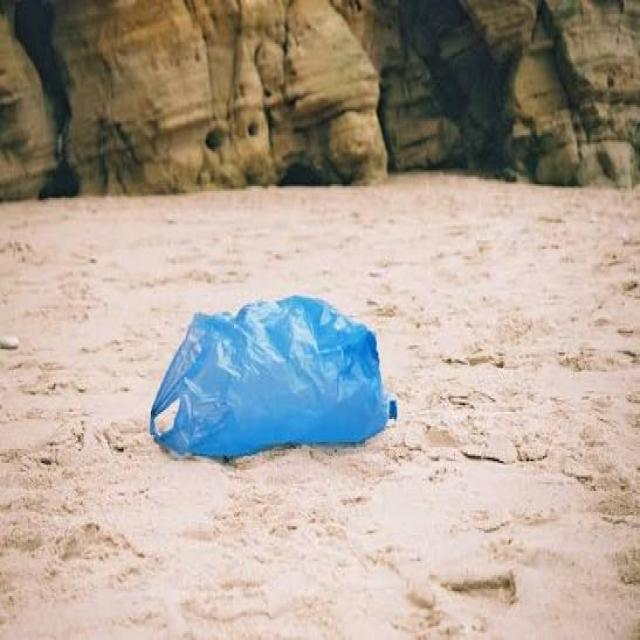bag: (126, 253, 437, 541)
